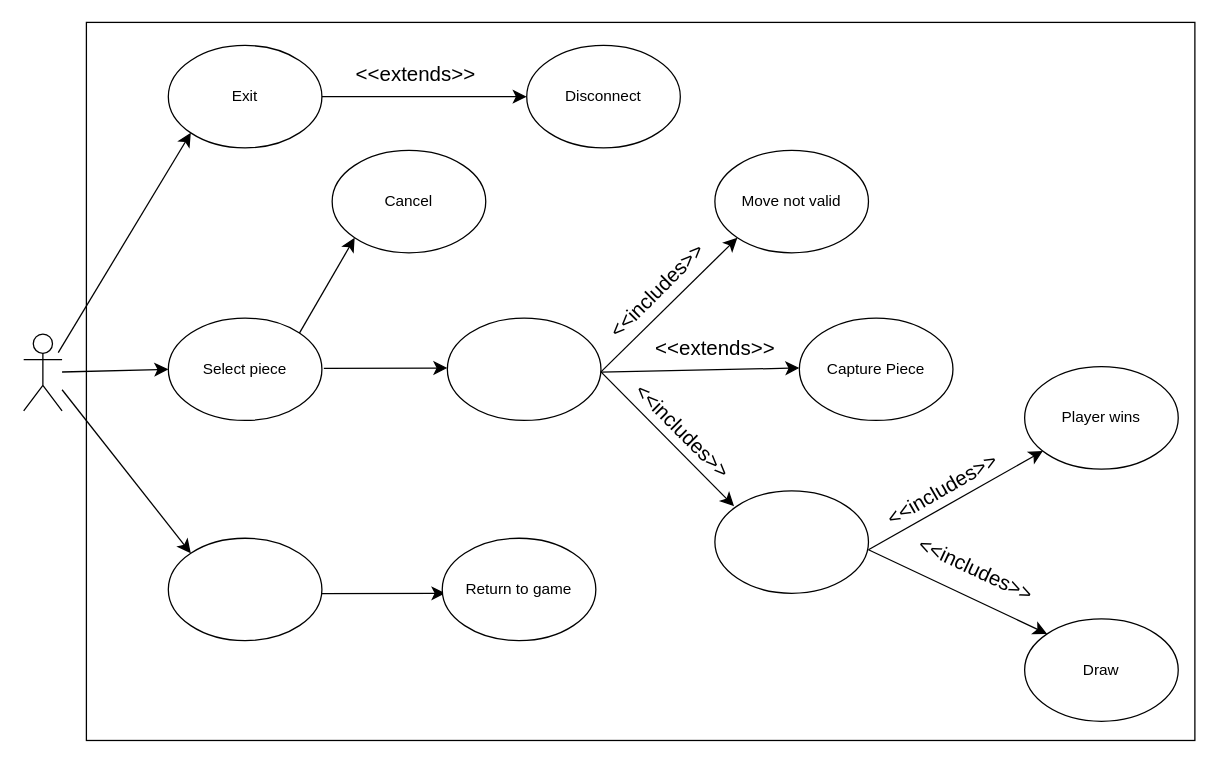
This 1217x763 diagram has some shape labels left out. The centre of each missing label's shape, as x and y in pixels:
"Check if game is over" goes at point (791, 541).
"Move Piece" goes at point (523, 368).
"player" goes at point (42, 372).
"Settings" goes at point (244, 589).
